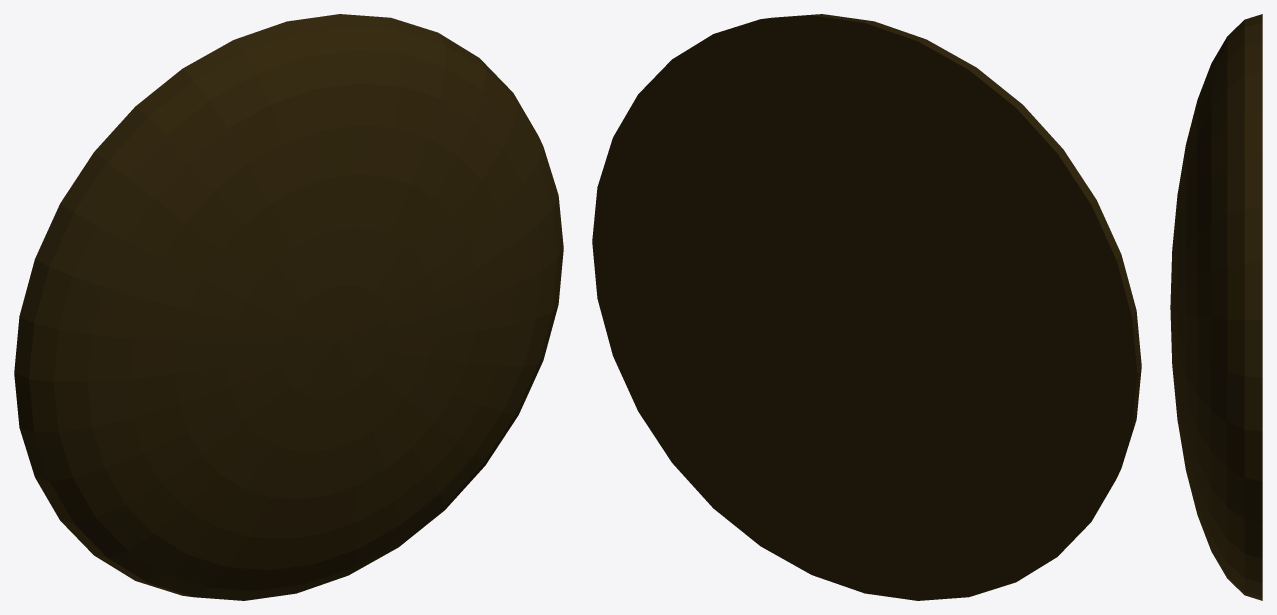
File: dot.fbx
3 views of the same model, side by side, from view 1: azimuth 30°, elevation 25°; view 2: azimuth 150°, elevation 25°; view 3: azimuth 270°, elevation 25° (orthographic). The views are drawn at different scales.
Visible parts, largest first — view 1: Sphere; view 2: Sphere; view 3: Sphere.
Boxes of the visible parts, x1,y1,x2,y2 form: Sphere: (14, 14, 563, 600); Sphere: (592, 14, 1141, 600); Sphere: (1170, 14, 1262, 600).
Bounding box in the file's own units: 0.5 × 0.5 × 0.0784.
